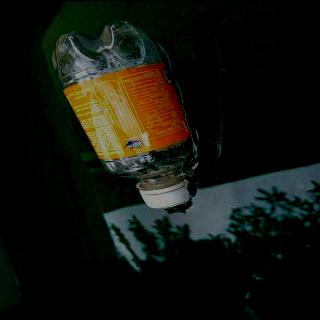bottle: (45, 17, 206, 212)
